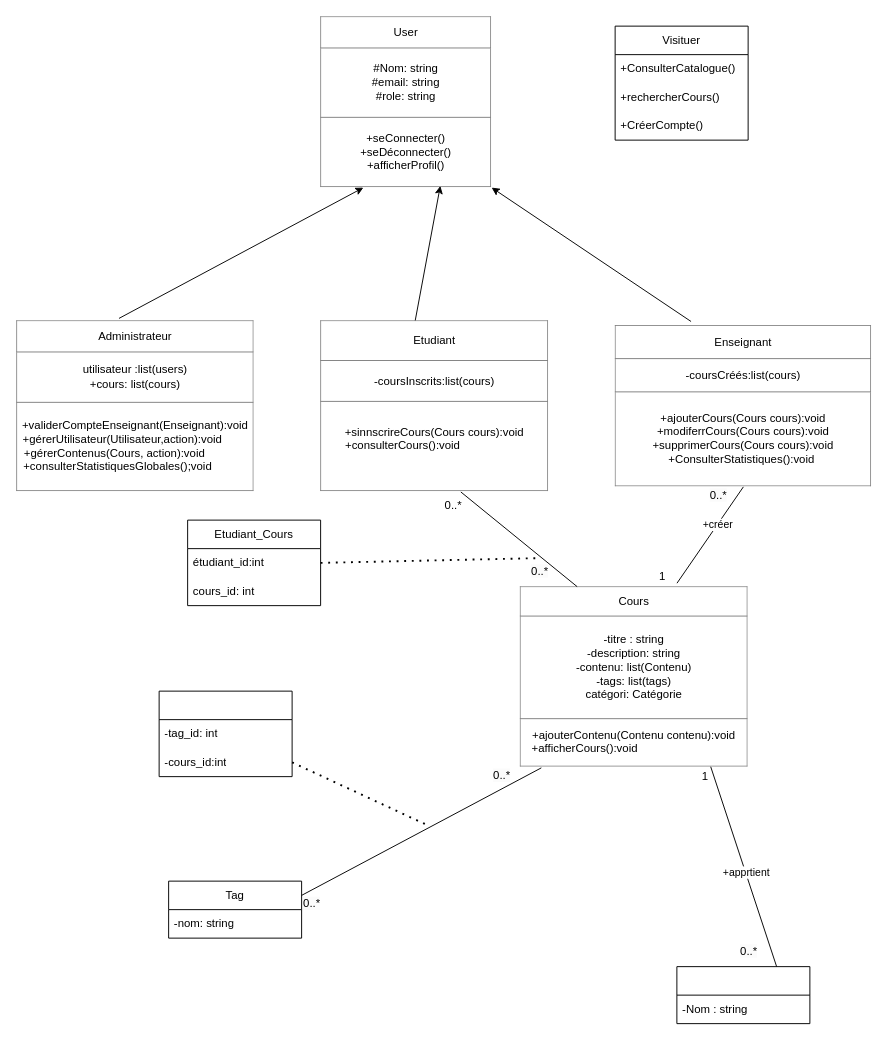
Image size: 887x1040. Some labels were removed from this diagram. Each missing label, with the box of its shape:
Catégorie: (676, 966, 810, 1024)
Cours_tag: (158, 690, 292, 777)
